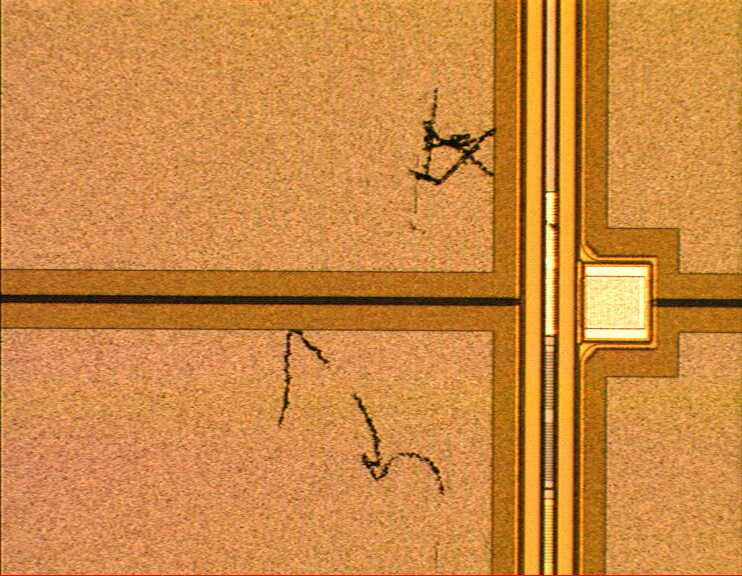SCRATCH: (266, 77, 589, 504)
